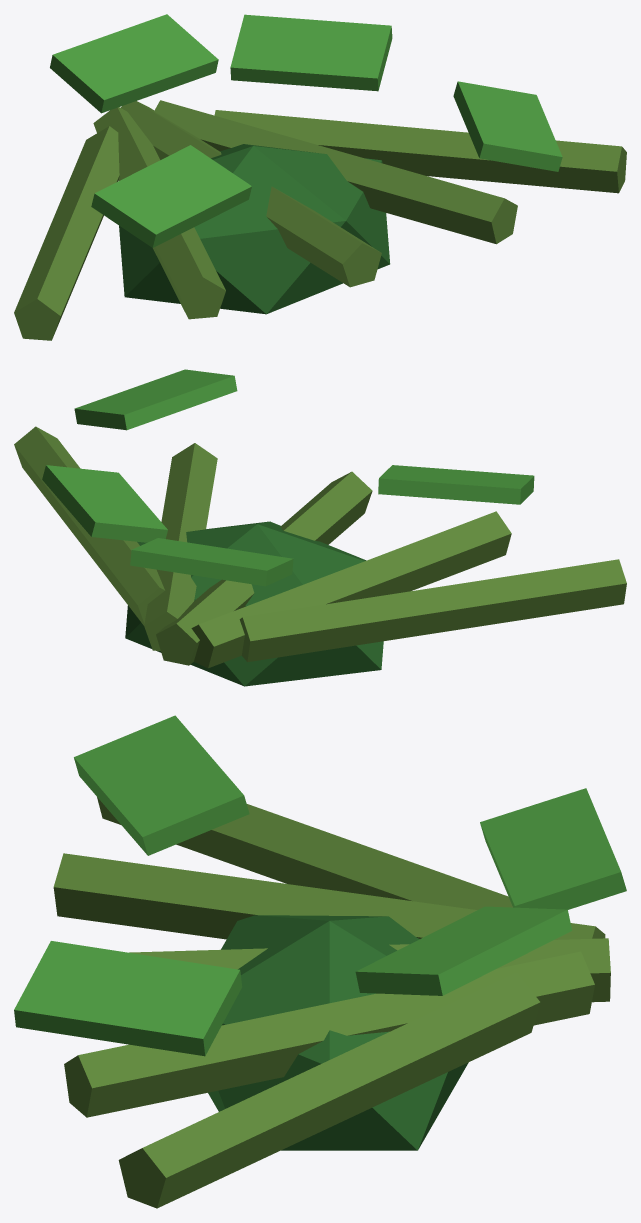
File: prop_debris_vines.glb
3 renders of one model, top to bottom at view 1: azimuth 30°, elevation 25°; view 2: azimuth 150°, elevation 25°; view 3: azimuth 270°, elevation 25°, orthographic. The views are drawn at different scales.
Visible parts, largest first — view 1: prop_debris_vines; view 2: prop_debris_vines; view 3: prop_debris_vines.
Boxes of the visible parts, x1=… form: prop_debris_vines: x1=14, y1=14, x2=626, y2=340; prop_debris_vines: x1=14, y1=369, x2=626, y2=686; prop_debris_vines: x1=14, y1=715, x2=626, y2=1208.
Size of the model in its own units: 0.8674 by 0.2826 by 0.5477.
Materials: 1 (1 with a texture image).
